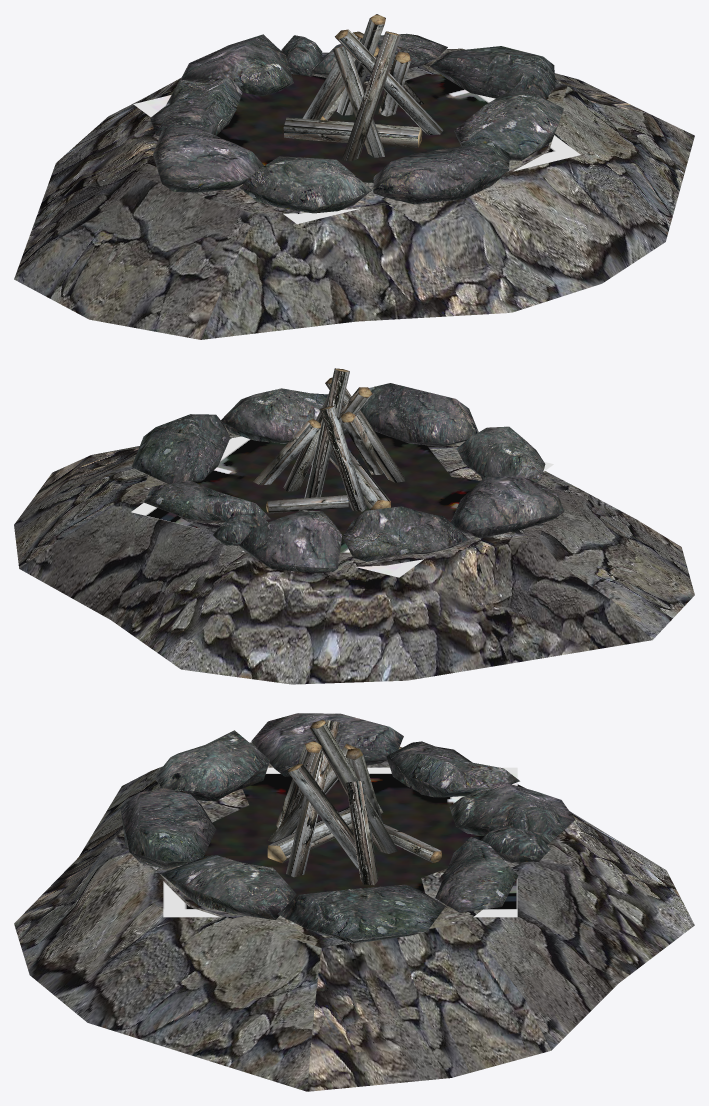
File: fire_stonemound.FBX
The picture shows the model from 3 angles, top to bottom: view 1: azimuth 30°, elevation 25°; view 2: azimuth 150°, elevation 25°; view 3: azimuth 270°, elevation 25°; orthographic projection. The views are drawn at different scales.
Visible parts, largest first — view 1: fire_stonemound; view 2: fire_stonemound; view 3: fire_stonemound.
Boxes of the visible parts, x1=… form: fire_stonemound: x1=14, y1=14, x2=694, y2=339; fire_stonemound: x1=14, y1=368, x2=694, y2=684; fire_stonemound: x1=14, y1=713, x2=694, y2=1091.
Bounding box in the file's own units: 45.34 × 12.54 × 37.63.
4 materials, 4 textured.
